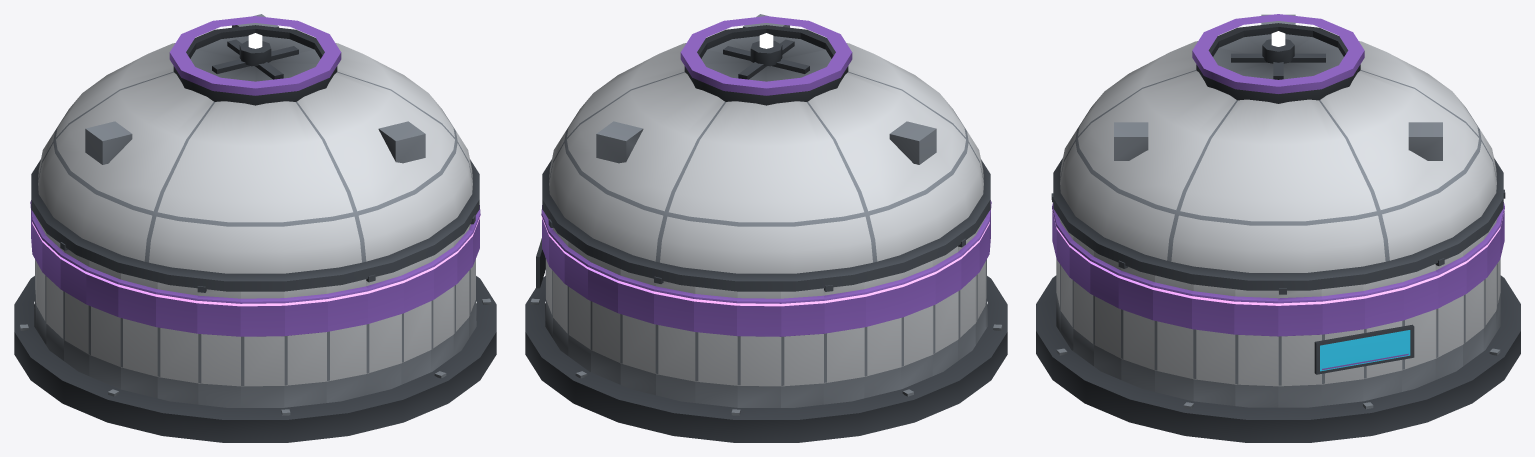
File: junction.glb
3 renders of one model, left to right at view 1: azimuth 30°, elevation 25°; view 2: azimuth 150°, elevation 25°; view 3: azimuth 270°, elevation 25°, orthographic.
Parts seen in each view (by area): view 1: Roof, Base, Wall_21, Wall_20, Wall_22, Wall_19, Wall_23, Wall_18, Wall_24, Wall_17, Wall_25, Wall_16 (+5 smaller); view 2: Roof, Base, Wall_10, Wall_11, Wall_09, Wall_12, Wall_08, Wall_13, Wall_07, Wall_14, Wall_06, Wall_15 (+5 smaller); view 3: Roof, Base, Wall_31, Wall_30, Wall_00, Wall_29, Wall_28, Wall_01, Wall_03, NameSign, Wall_04, Wall_02 (+7 smaller).
Boxes of the visible parts, x1=… form: Roof: x1=31, y1=14, x2=479, y2=291; Base: x1=14, y1=276, x2=496, y2=442; Wall_21: x1=240, y1=291, x2=284, y2=407; Wall_20: x1=197, y1=286, x2=240, y2=407; Wall_22: x1=284, y1=287, x2=327, y2=407; Wall_19: x1=155, y1=282, x2=198, y2=404; Wall_23: x1=326, y1=279, x2=368, y2=402; Wall_18: x1=118, y1=273, x2=157, y2=398; Wall_24: x1=366, y1=269, x2=404, y2=395; Wall_17: x1=86, y1=260, x2=120, y2=389; Wall_25: x1=401, y1=256, x2=434, y2=384; Wall_16: x1=60, y1=242, x2=89, y2=375; Roof: x1=542, y1=14, x2=990, y2=291; Base: x1=525, y1=276, x2=1007, y2=442; Wall_10: x1=737, y1=291, x2=781, y2=407; Wall_11: x1=781, y1=288, x2=824, y2=407; Wall_09: x1=694, y1=287, x2=737, y2=407; Wall_12: x1=823, y1=282, x2=866, y2=404; Wall_08: x1=653, y1=276, x2=695, y2=402; Wall_13: x1=864, y1=273, x2=903, y2=398; Wall_07: x1=617, y1=269, x2=655, y2=395; Wall_14: x1=901, y1=260, x2=935, y2=389; Wall_06: x1=587, y1=256, x2=620, y2=384; Wall_15: x1=932, y1=246, x2=961, y2=375; Roof: x1=1053, y1=14, x2=1503, y2=290; Base: x1=1036, y1=275, x2=1520, y2=442; Wall_31: x1=1234, y1=289, x2=1278, y2=407; Wall_30: x1=1191, y1=284, x2=1235, y2=405; Wall_00: x1=1278, y1=288, x2=1322, y2=407; Wall_29: x1=1152, y1=275, x2=1193, y2=401; Wall_28: x1=1118, y1=260, x2=1154, y2=391; Wall_01: x1=1321, y1=284, x2=1365, y2=405; Wall_03: x1=1402, y1=264, x2=1438, y2=391; NameSign: x1=1314, y1=324, x2=1414, y2=374; Wall_04: x1=1435, y1=251, x2=1466, y2=379; Wall_02: x1=1363, y1=275, x2=1404, y2=401.
Bounding box in the file's own units: 4.76 × 3.35 × 4.76.
